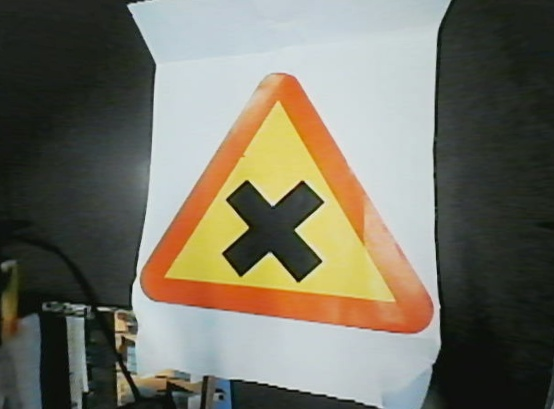junction: (138, 66, 442, 340)
